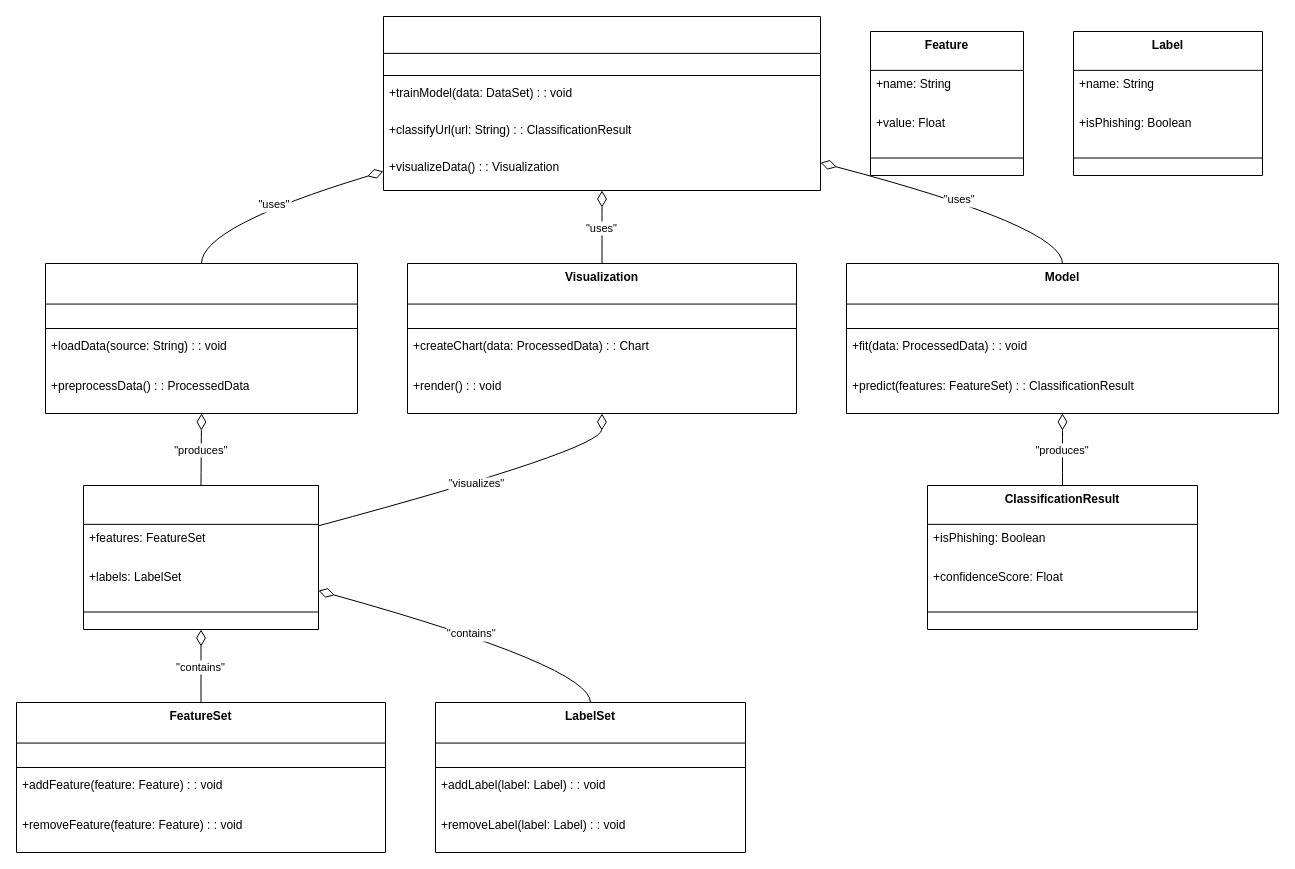
Image size: 1295x869. Some labels were removed from this diagram. The shapes that lost their labels are listed below. From the top down, each one's box as (x1, y1, x2, y2) in pixels, then its label:
(382, 16, 820, 190): PhishingDetectionApp
(44, 262, 358, 414): DataSet
(82, 484, 318, 630): ProcessedData
